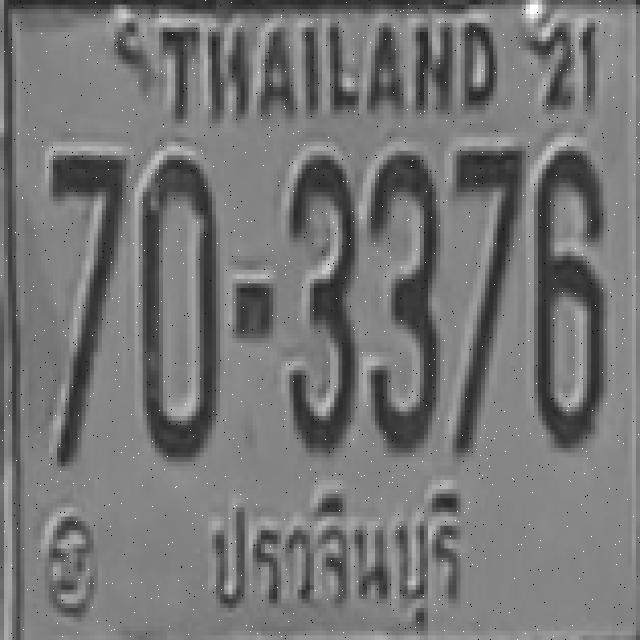0: (138, 153, 216, 359)
7: (48, 151, 126, 334), (452, 144, 522, 308)
PrachinBuri: (204, 470, 466, 626)
